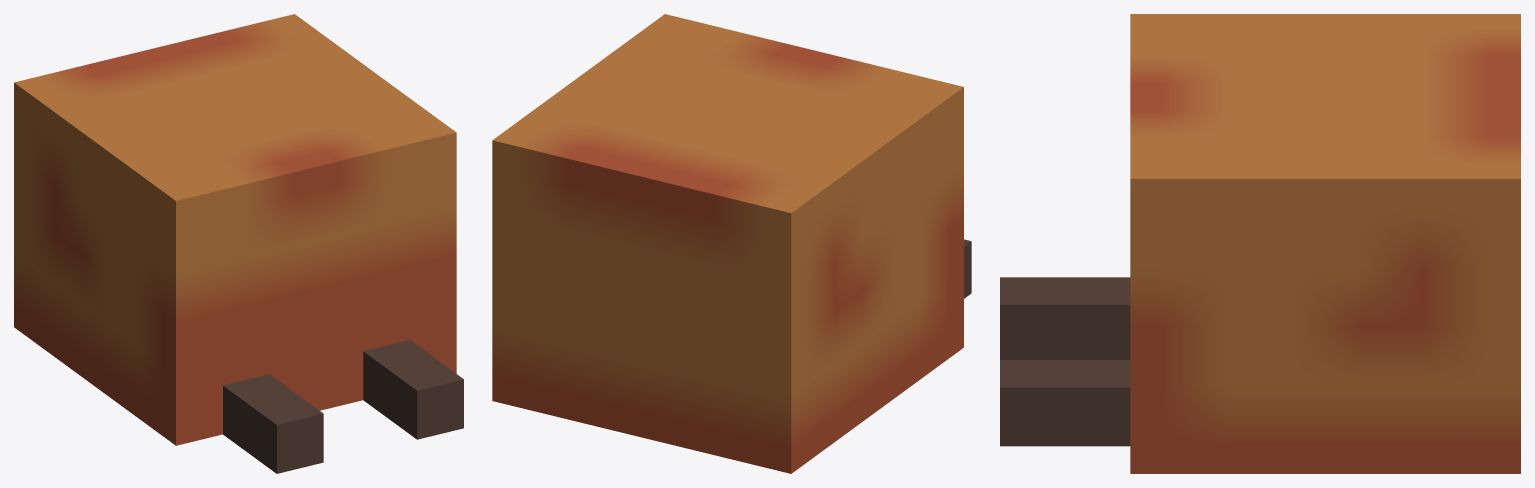
File: ogre_legL_1.fbx
3 views of the same model, side by side, from view 1: azimuth 30°, elevation 25°; view 2: azimuth 150°, elevation 25°; view 3: azimuth 270°, elevation 25° (orthographic). The views are drawn at different scales.
Visible parts, largest first — view 1: ogre_legL_1; view 2: ogre_legL_1; view 3: ogre_legL_1.
Part boxes in pixels (x1,y1,x2,y2): ogre_legL_1: (14,14,463,473); ogre_legL_1: (492,14,971,473); ogre_legL_1: (1000,14,1520,473).
Size of the model in its own units: 6 by 5 by 8.
Materials: 1 (1 with a texture image).
